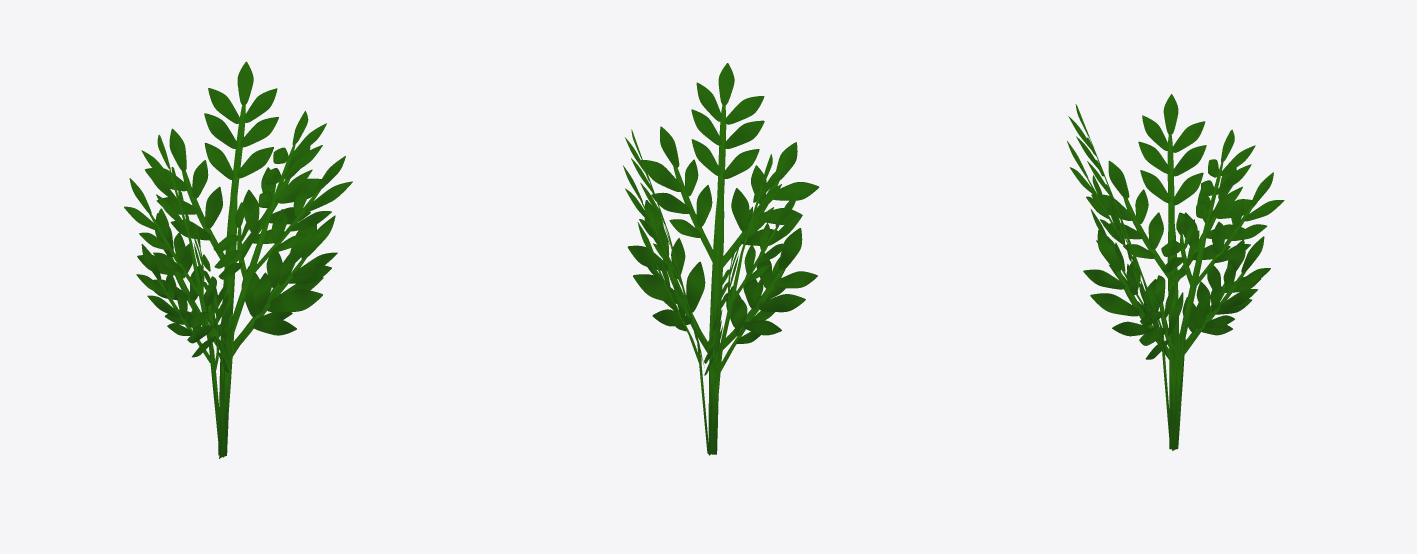
Rendered from CarrotPlant01.fbx.
3 views of the same model, side by side, from view 1: azimuth 30°, elevation 25°; view 2: azimuth 150°, elevation 25°; view 3: azimuth 270°, elevation 25° (orthographic). The views are drawn at different scales.
Visible parts, largest first — view 1: CarrotPlant01_LOD0; view 2: CarrotPlant01_LOD0; view 3: CarrotPlant01_LOD0.
Part boxes in pixels (x1,y1,x2,y2): CarrotPlant01_LOD0: [124, 61, 352, 458]; CarrotPlant01_LOD0: [623, 63, 819, 455]; CarrotPlant01_LOD0: [1067, 94, 1284, 450].
Size of what is drawn, in the model's own units: 34.4 by 30.96 by 32.87.
